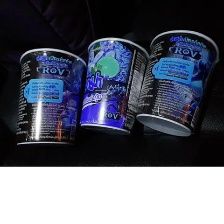paper_cup: (132, 25, 223, 140), (8, 41, 92, 150), (73, 33, 154, 139)
